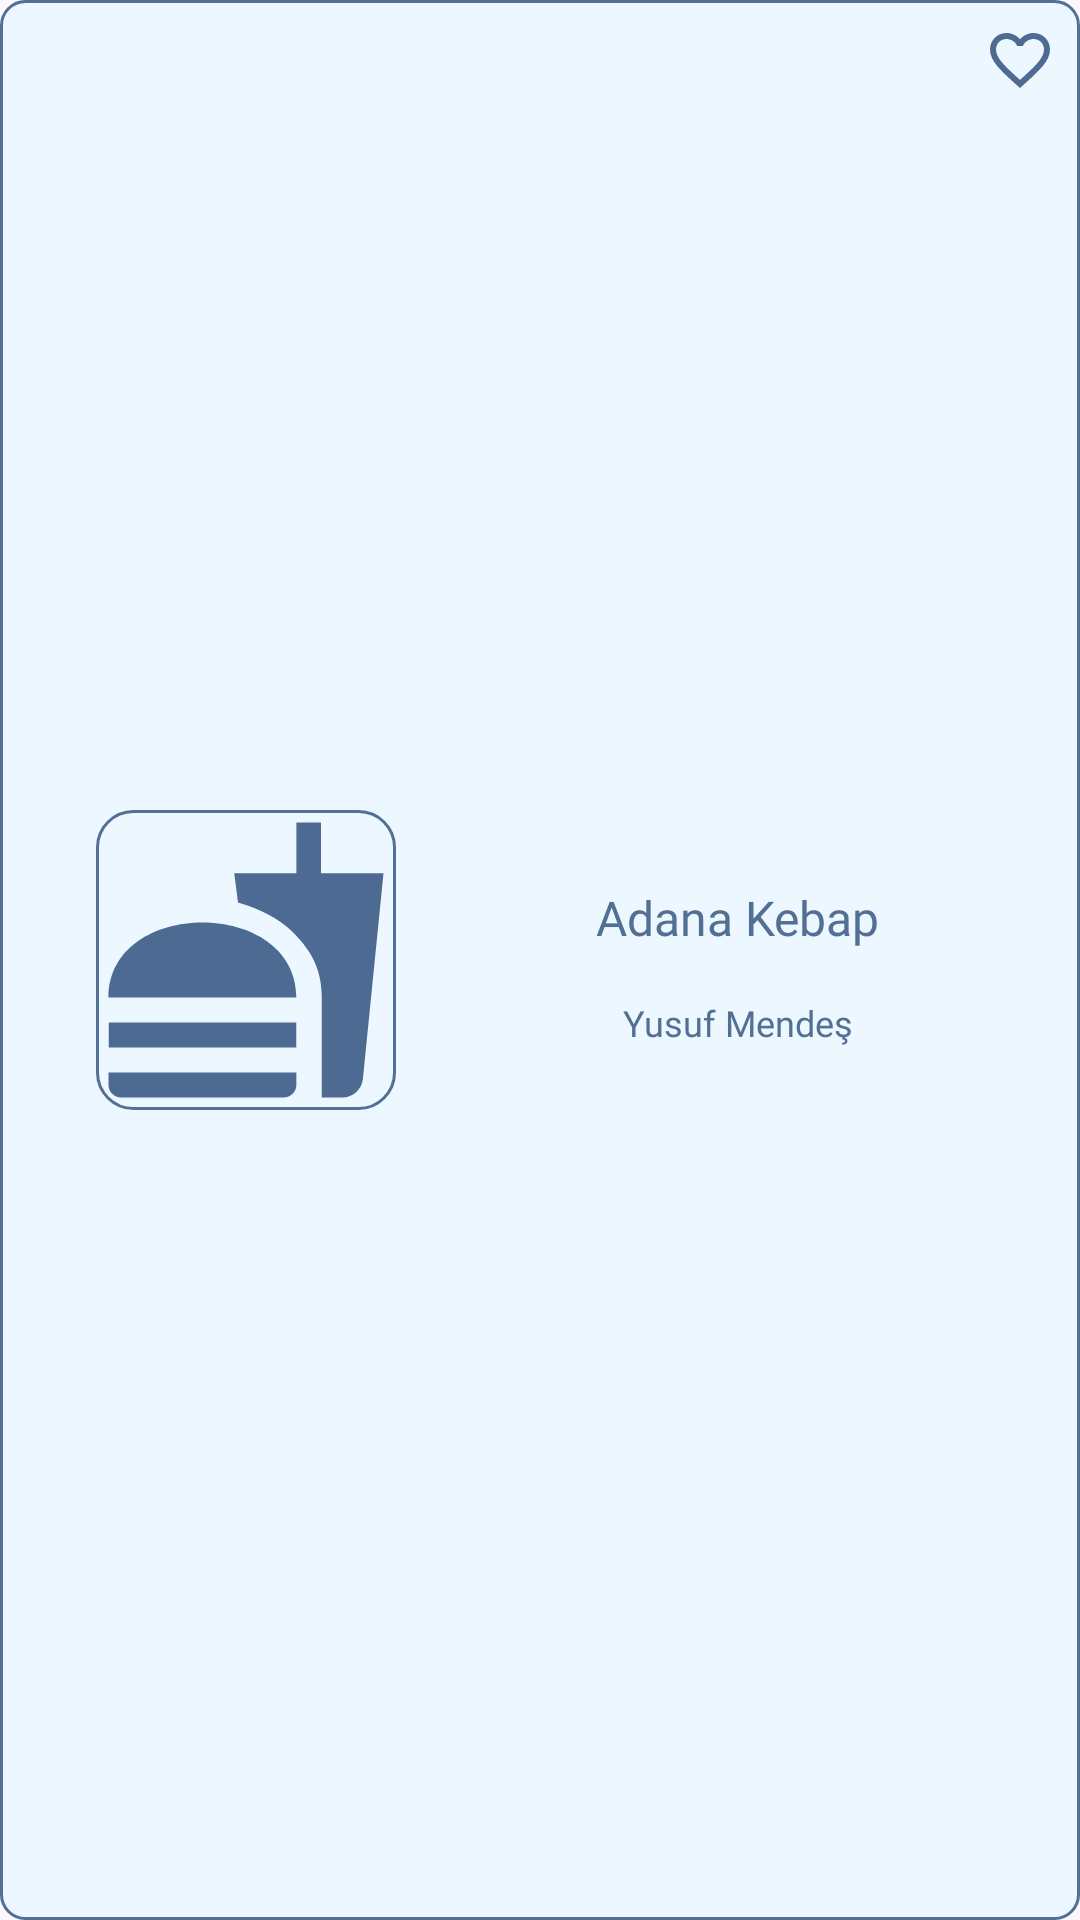

Icons on this 1080w x 1920h Android screen, each with the point to tap as (x=x, y=y):
fastfood: (x=246, y=960)
favorite: (x=1020, y=60)
